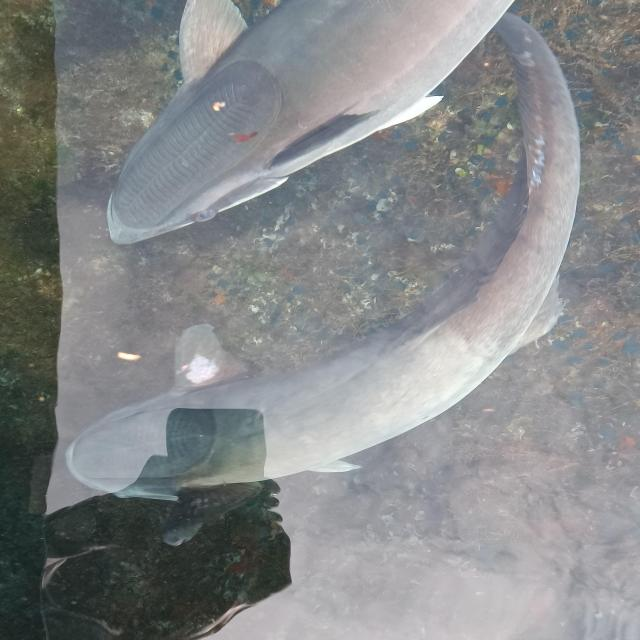ikan: (66, 7, 514, 260), (55, 307, 495, 517)
